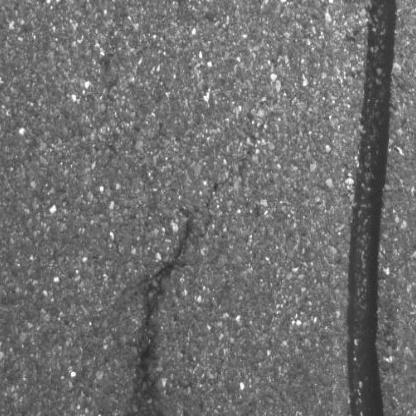Cracks: (134, 166, 237, 416)
